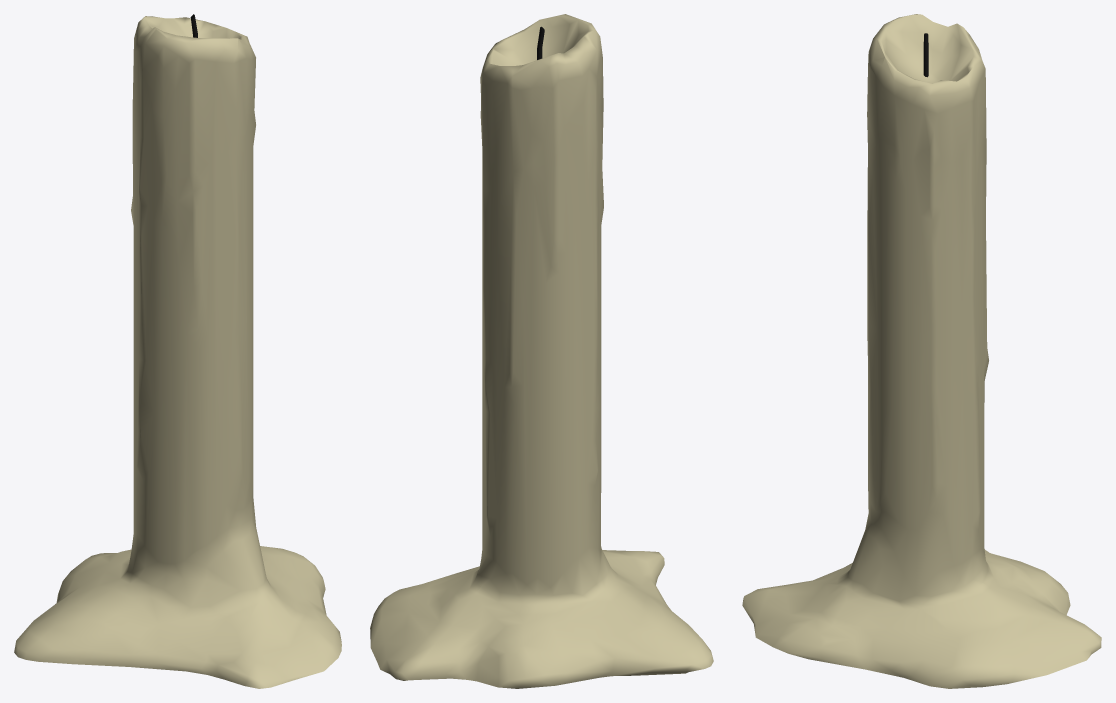
Rendered from SM_Candle_Used_A.fbx.
3 renders of one model, left to right at view 1: azimuth 30°, elevation 25°; view 2: azimuth 150°, elevation 25°; view 3: azimuth 270°, elevation 25°, orthographic. The views are drawn at different scales.
Parts seen in each view (by area): view 1: SM_Candle_Used_A_LOD0; view 2: SM_Candle_Used_A_LOD0; view 3: SM_Candle_Used_A_LOD0.
Boxes of the visible parts, x1,y1,x2,y2 form: SM_Candle_Used_A_LOD0: (14,14,341,688); SM_Candle_Used_A_LOD0: (370,14,713,688); SM_Candle_Used_A_LOD0: (742,14,1101,688).
Bounding box in the file's own units: 9.55 × 9.78 × 17.73.
Materials: 1 (1 with a texture image).
